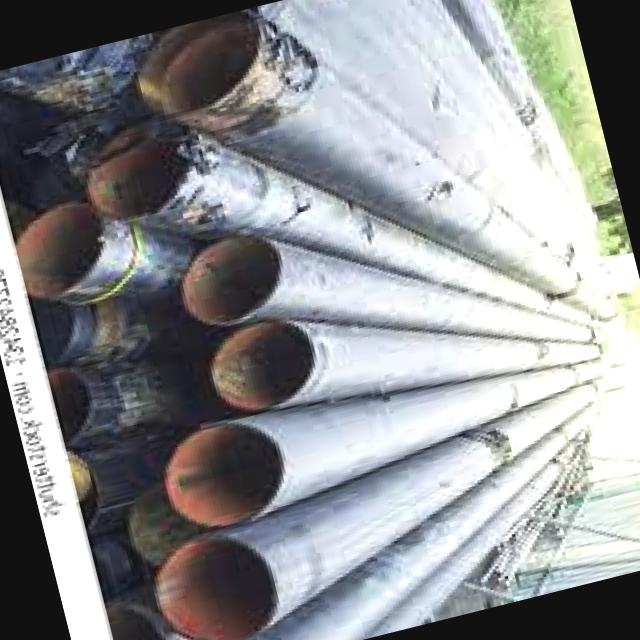gas: (137, 9, 572, 291), (155, 389, 594, 640), (85, 122, 551, 311), (163, 363, 595, 524), (250, 433, 556, 640), (180, 238, 589, 338), (209, 320, 598, 411)
